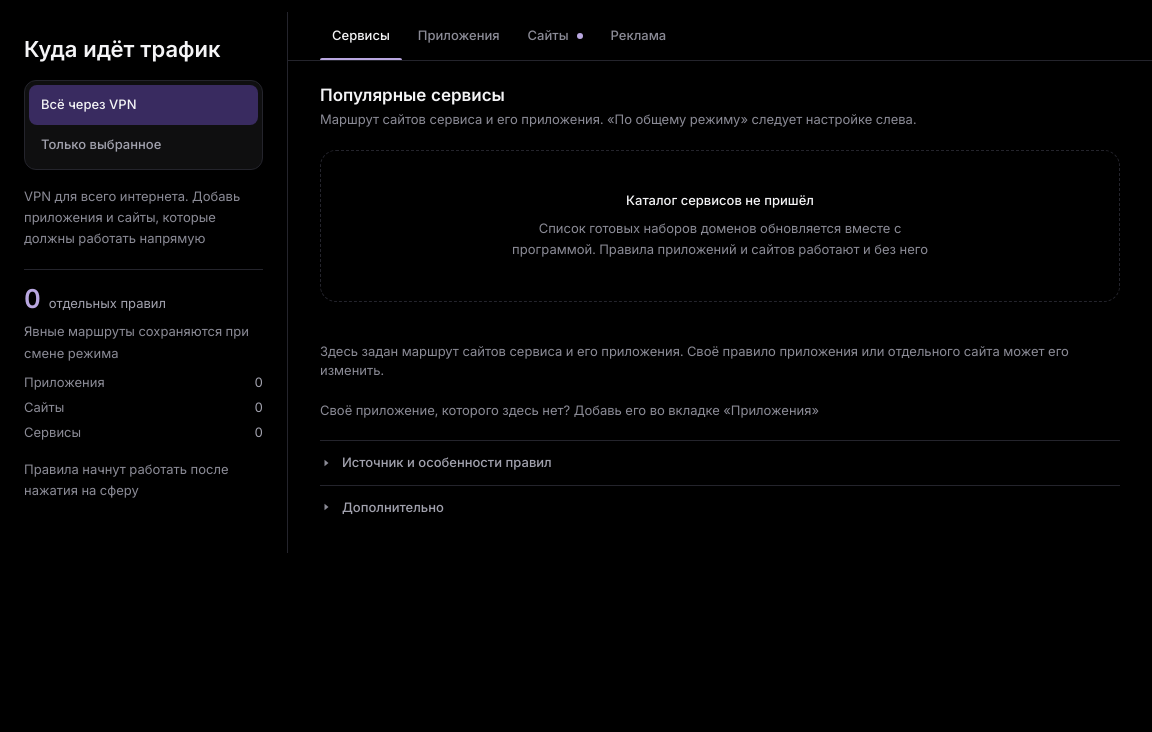
it: вкладка «Реклама» › раздел «Зачем включать» объясняет отличие от расширения браузера
This screenshot has width=1152, height=732.
Click the tab "Реклама". click: coordinates (638, 36)
box: x1=598 y1=12 x2=678 y2=60
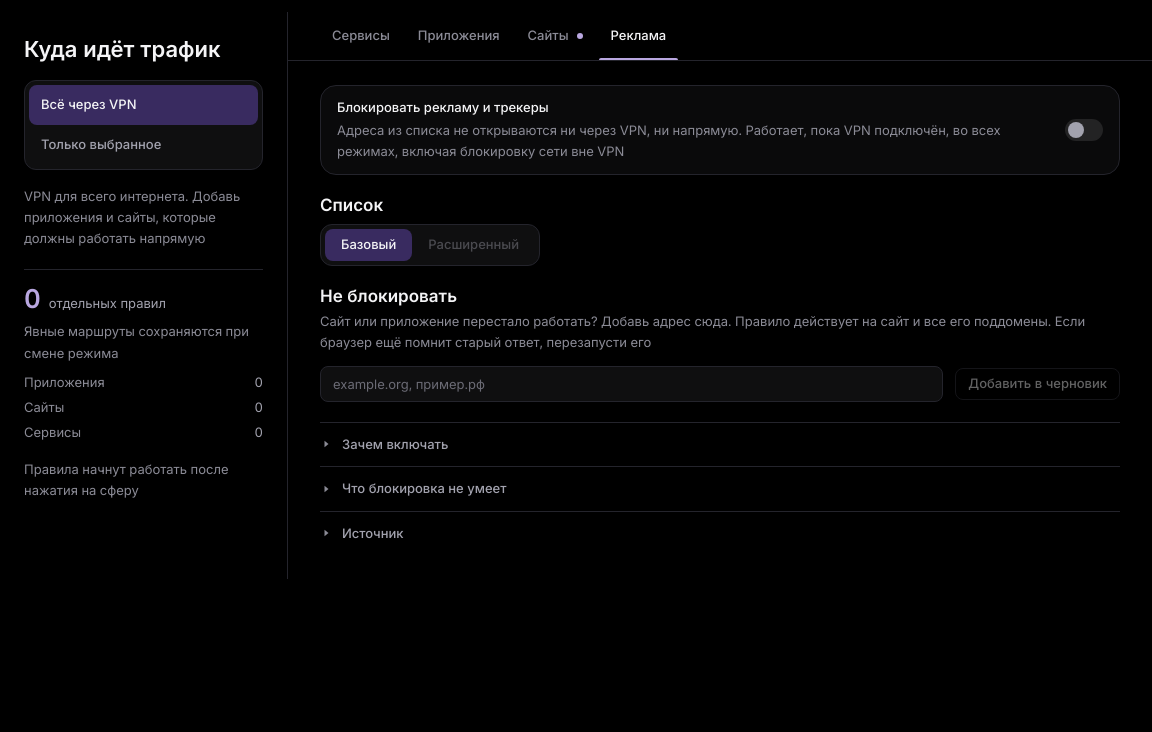
Click the button "Зачем включать". click: coordinates (395, 444)
box: x1=320 y1=422 x2=1120 y2=466
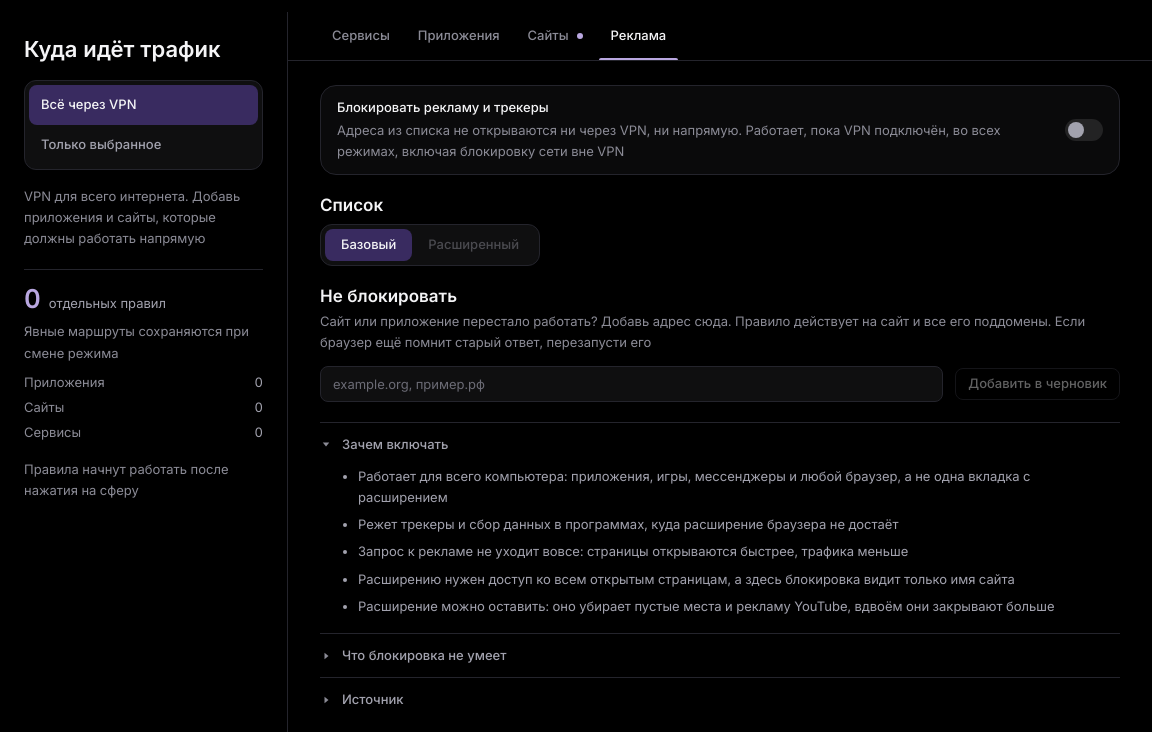
Check: the list item "Работает для всего компьютера" is shown, box x1=358 y1=468 x2=1030 y2=505
Check: the list item "Расширение можно оставить" is shown, box x1=358 y1=598 x2=1055 y2=614
